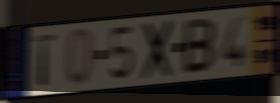0: (62, 26, 96, 89)
4: (220, 14, 249, 72)
5: (109, 24, 135, 82)
B: (181, 17, 217, 77)
T: (31, 32, 58, 88)
X: (141, 17, 175, 83)
